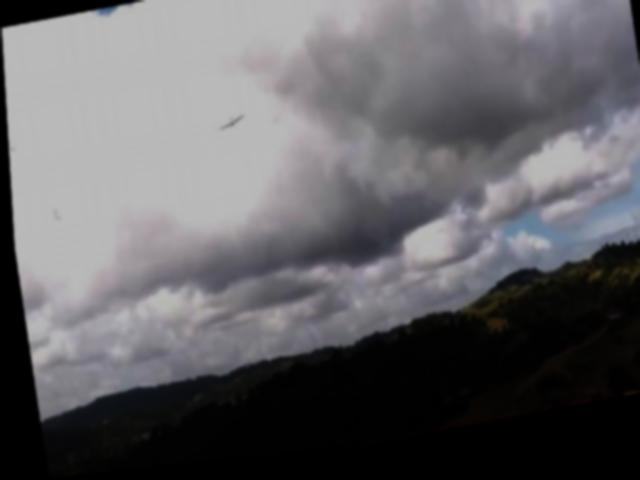iha: (213, 112, 246, 138)
